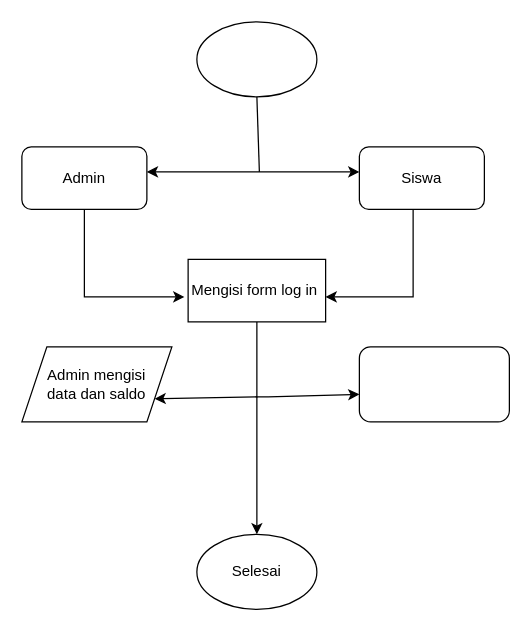
This 531x631 diagram has some shape labels left out. Each missing label, with the centre of its shape:
"Mulai" belongs at (x=256, y=59).
"Siswa dapat melihat saldo dan pencarian saja" belongs at (x=433, y=384).
